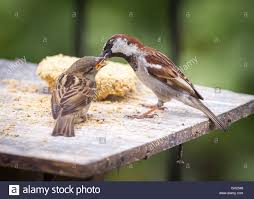hsparrow: (99, 32, 232, 133), (48, 55, 107, 144)
